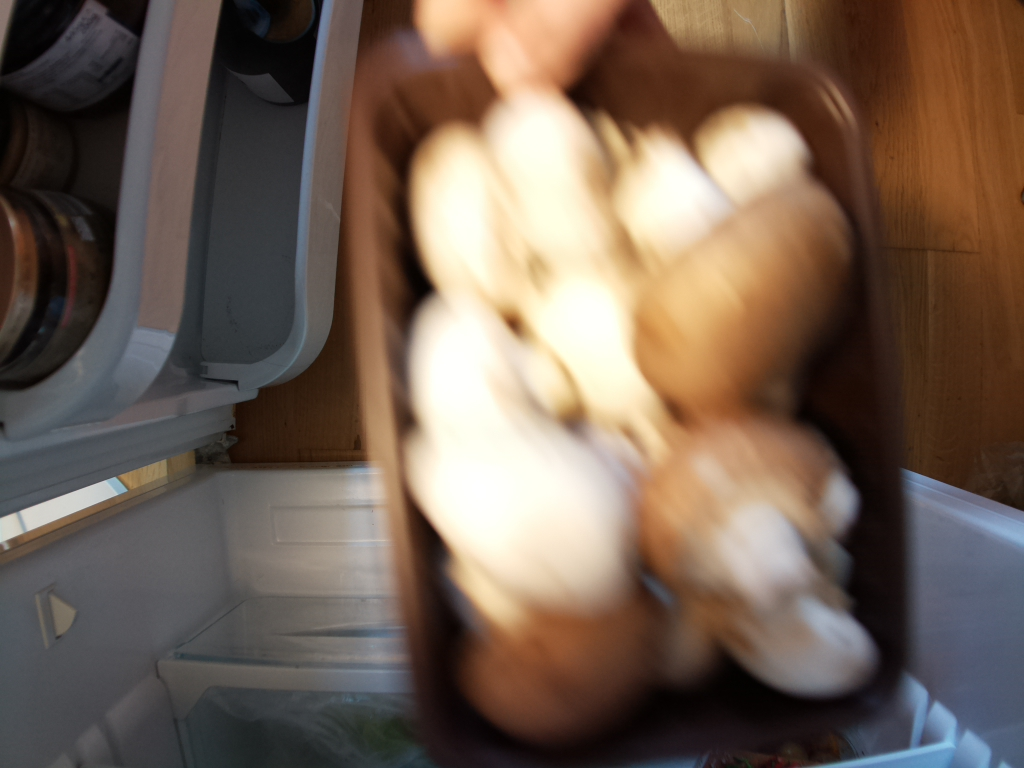mushrooms: (352, 32, 915, 768)
